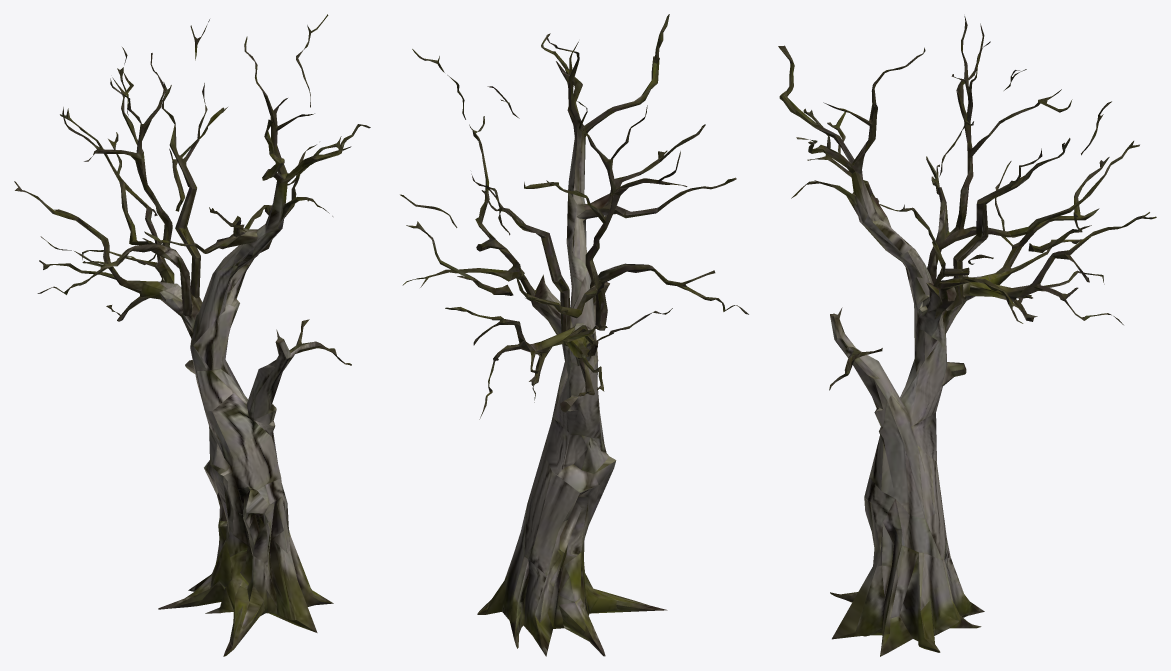
The model's file is DeadTree.lod1.glb.
3 renders of one model, left to right at view 1: azimuth 30°, elevation 25°; view 2: azimuth 150°, elevation 25°; view 3: azimuth 270°, elevation 25°, orthographic. The views are drawn at different scales.
Size of the model in its own units: 2.83 by 4.97 by 2.94.
1 material, 1 textured.
